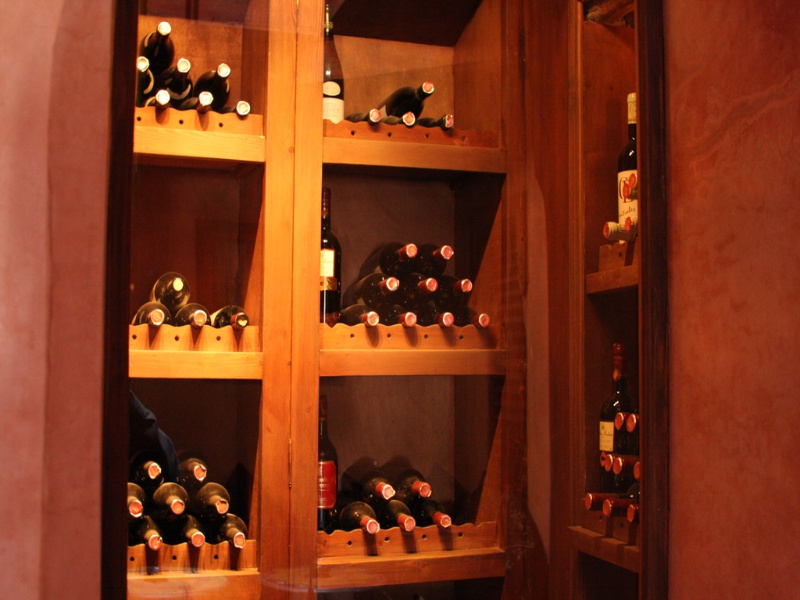wine: (122, 2, 649, 576)
